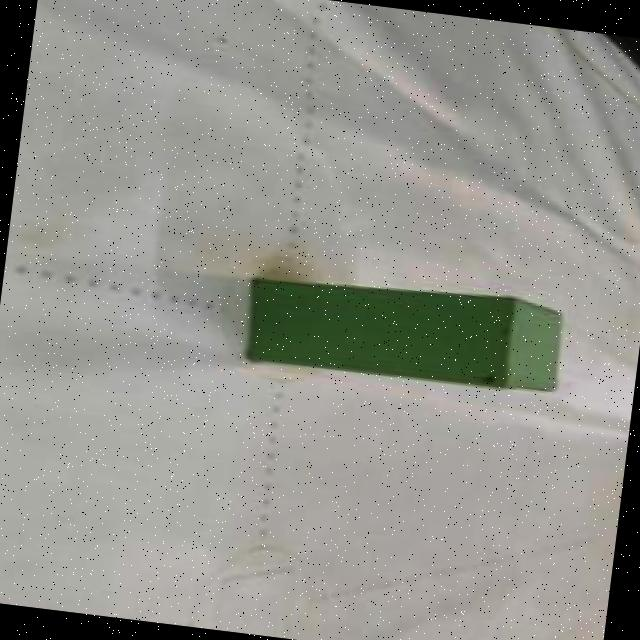greenbox: (235, 262, 574, 399)
